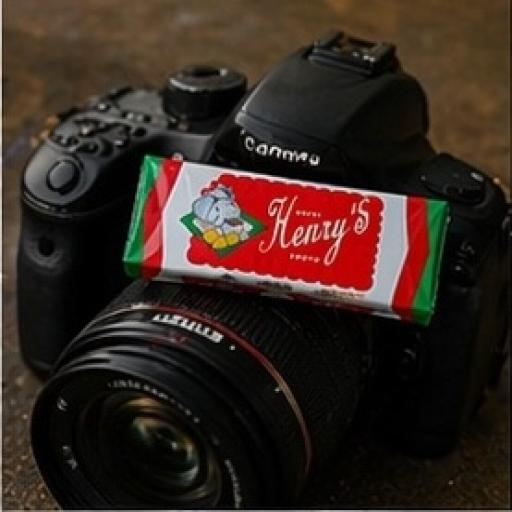golden: (123, 145, 459, 318)
